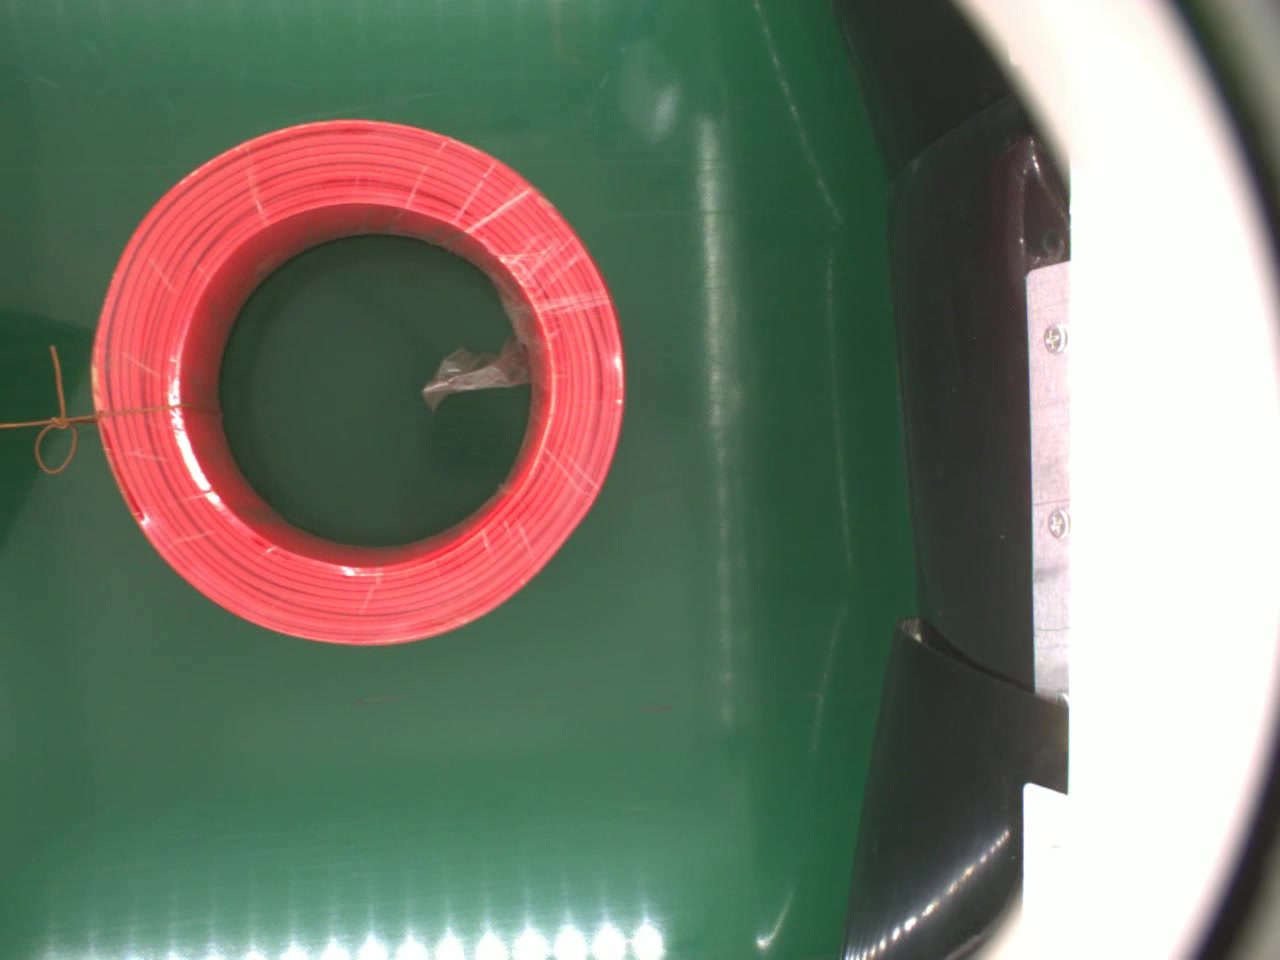red: (89, 113, 627, 645)
